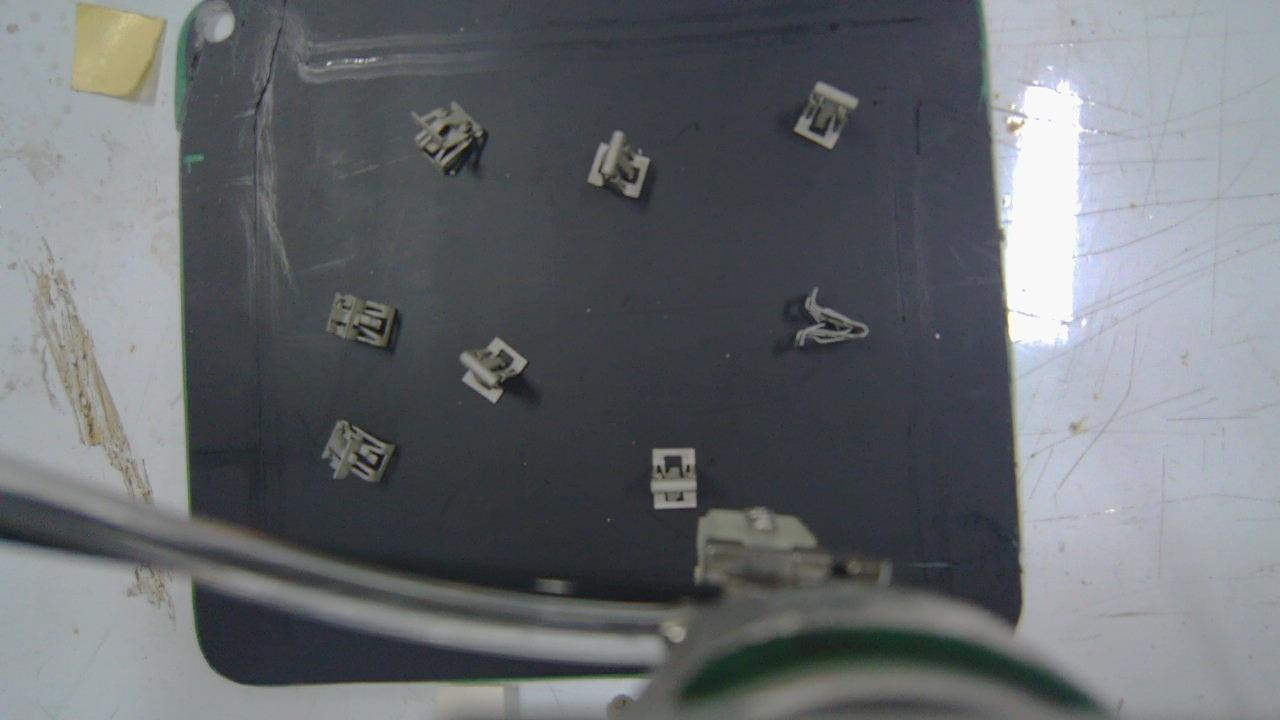ng: (415, 104, 483, 176), (796, 285, 871, 348), (320, 420, 394, 483), (459, 335, 527, 401), (590, 132, 651, 200), (327, 289, 394, 349), (796, 83, 857, 148)
pass: (652, 447, 696, 511)
